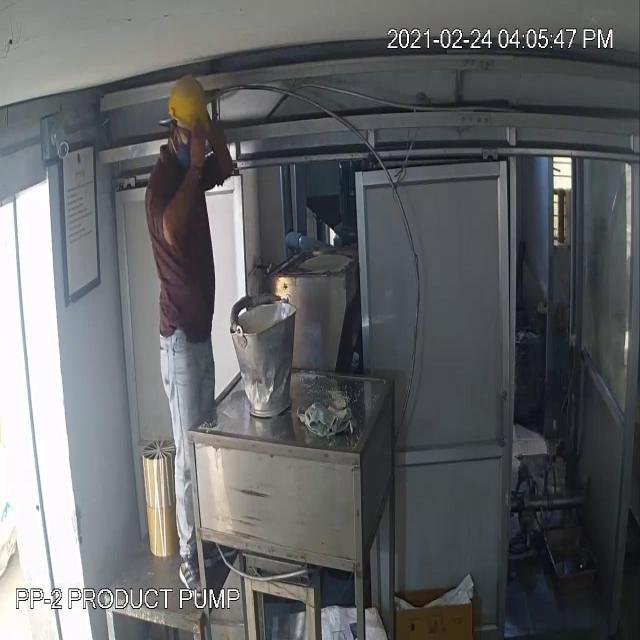helmet: (161, 73, 219, 145)
